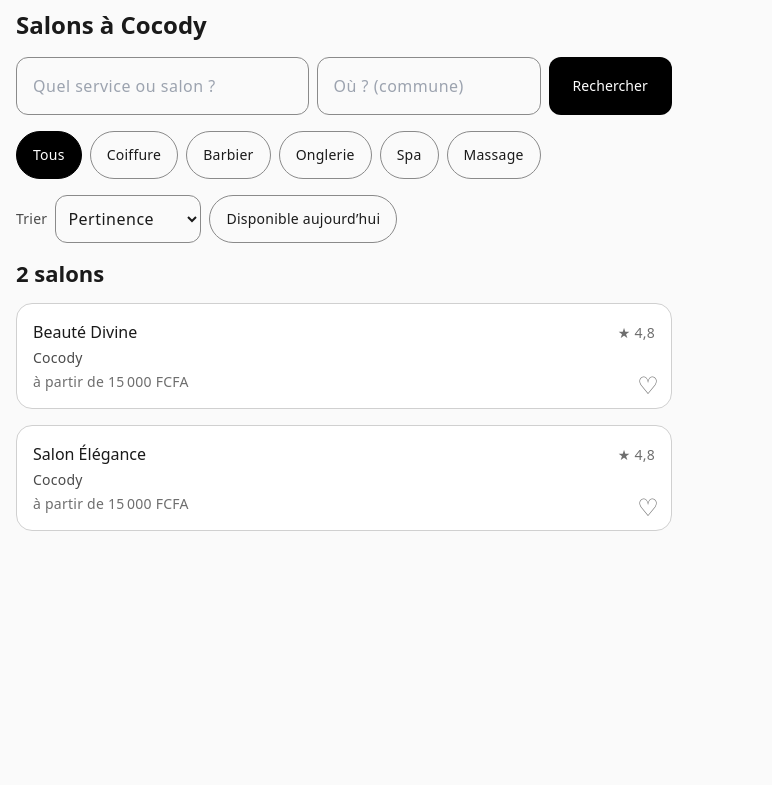
Test: B5.4 — the search ♥ says what it did › adding: « Ajouté aux favoris », in a region mounted before it, with « Annuler »
Click the button named "Ajouter Beauté Divine aux favoris" at (648, 385), box left=624, top=361, right=672, bottom=409
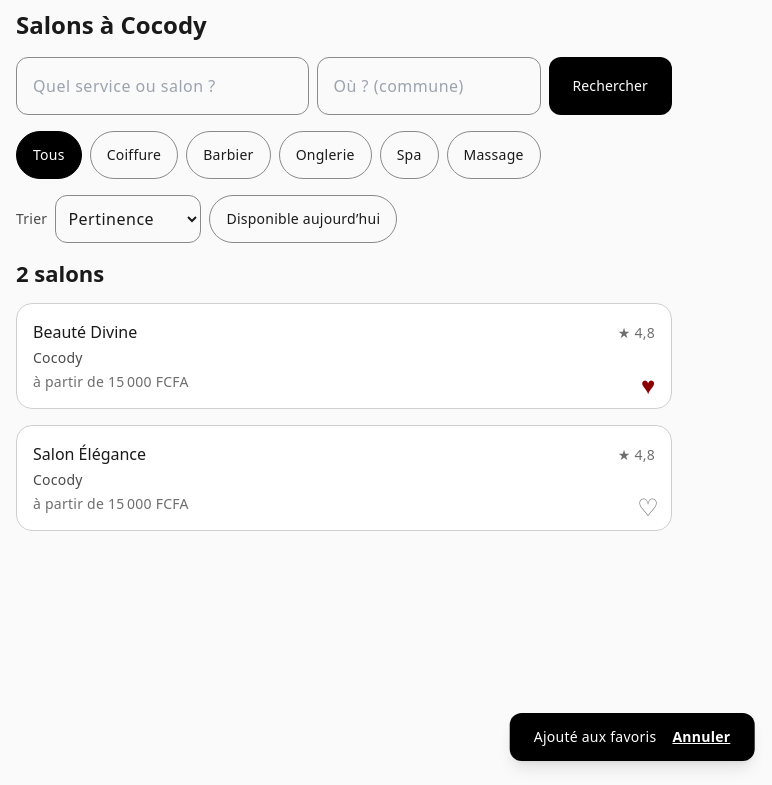
Check: the message "Ajouté aux favoris Annuler" is shown, box left=510, top=713, right=754, bottom=761
